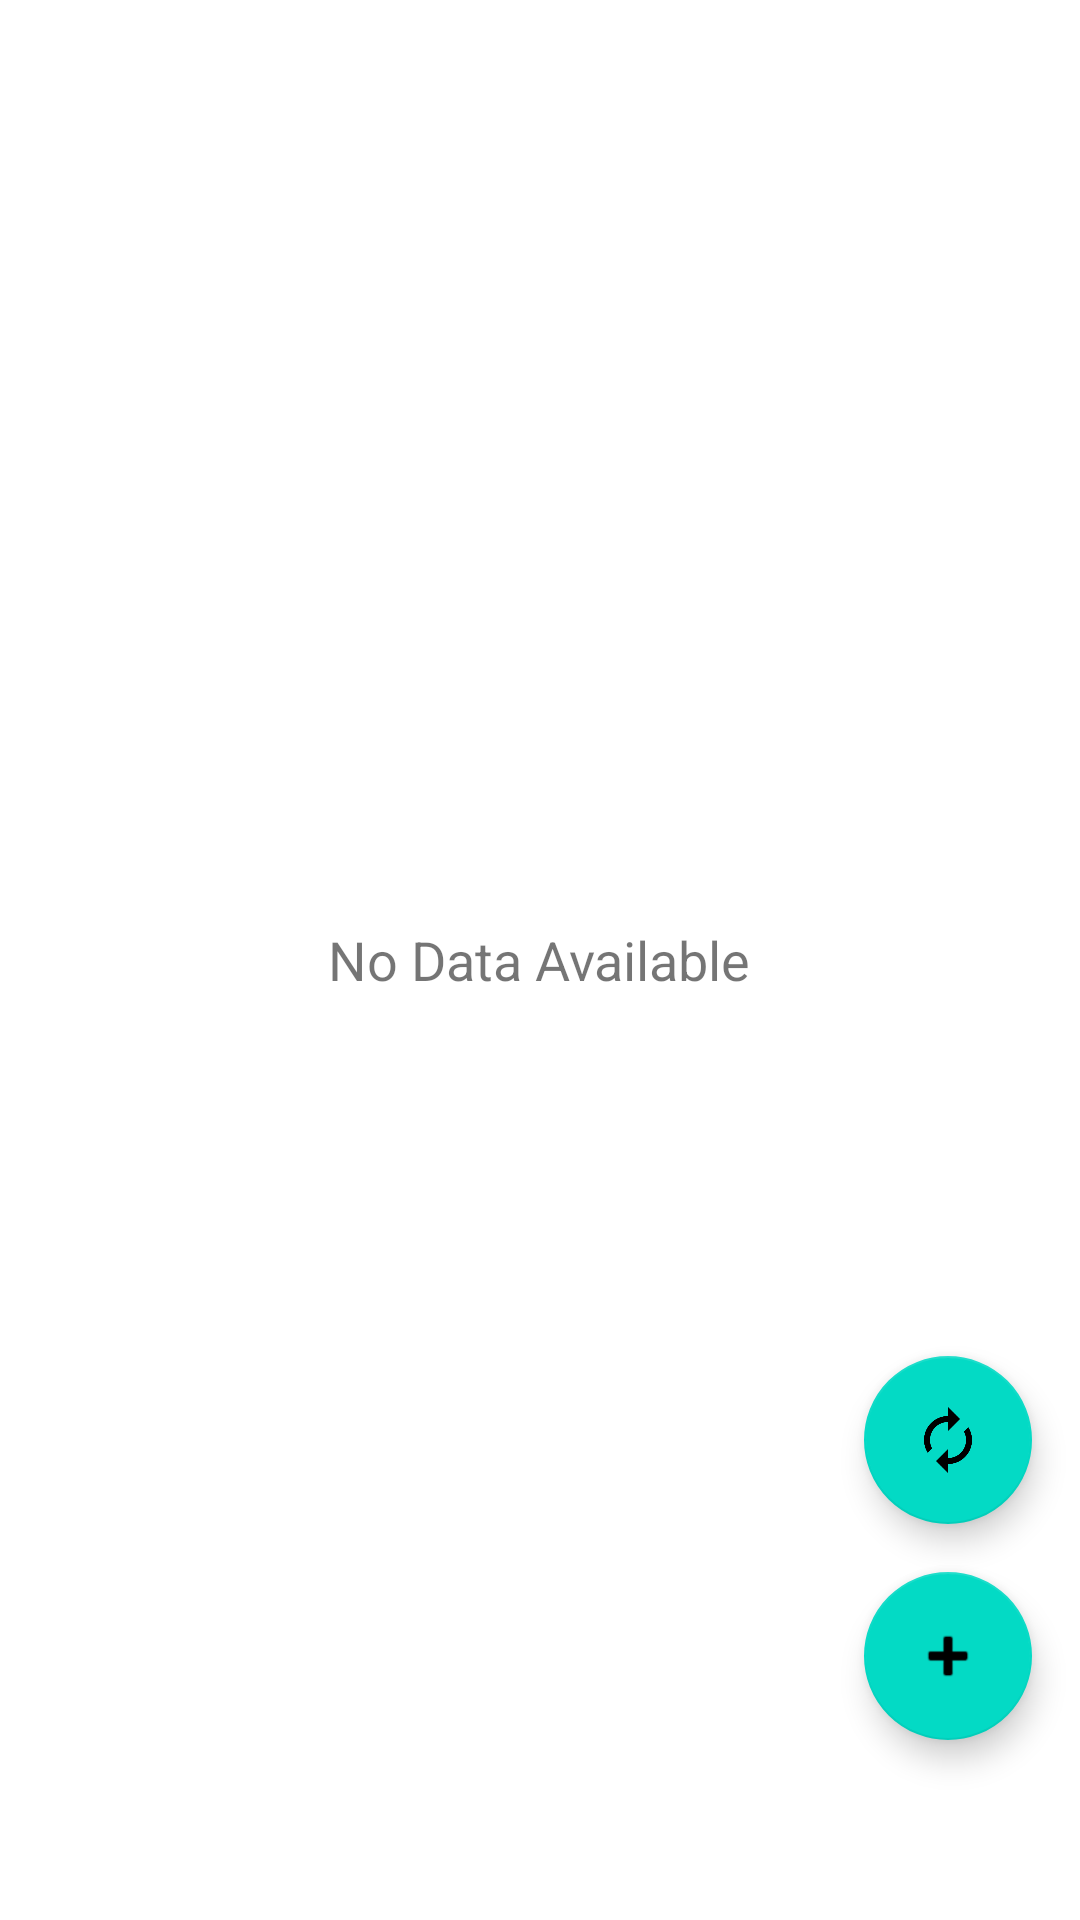

Locate icon controls on the screen. Image size 1080px×1920px, boxes as (x1, y1, x2, y2).
add: (864, 1572, 1032, 1740)
update: (864, 1356, 1032, 1524)
